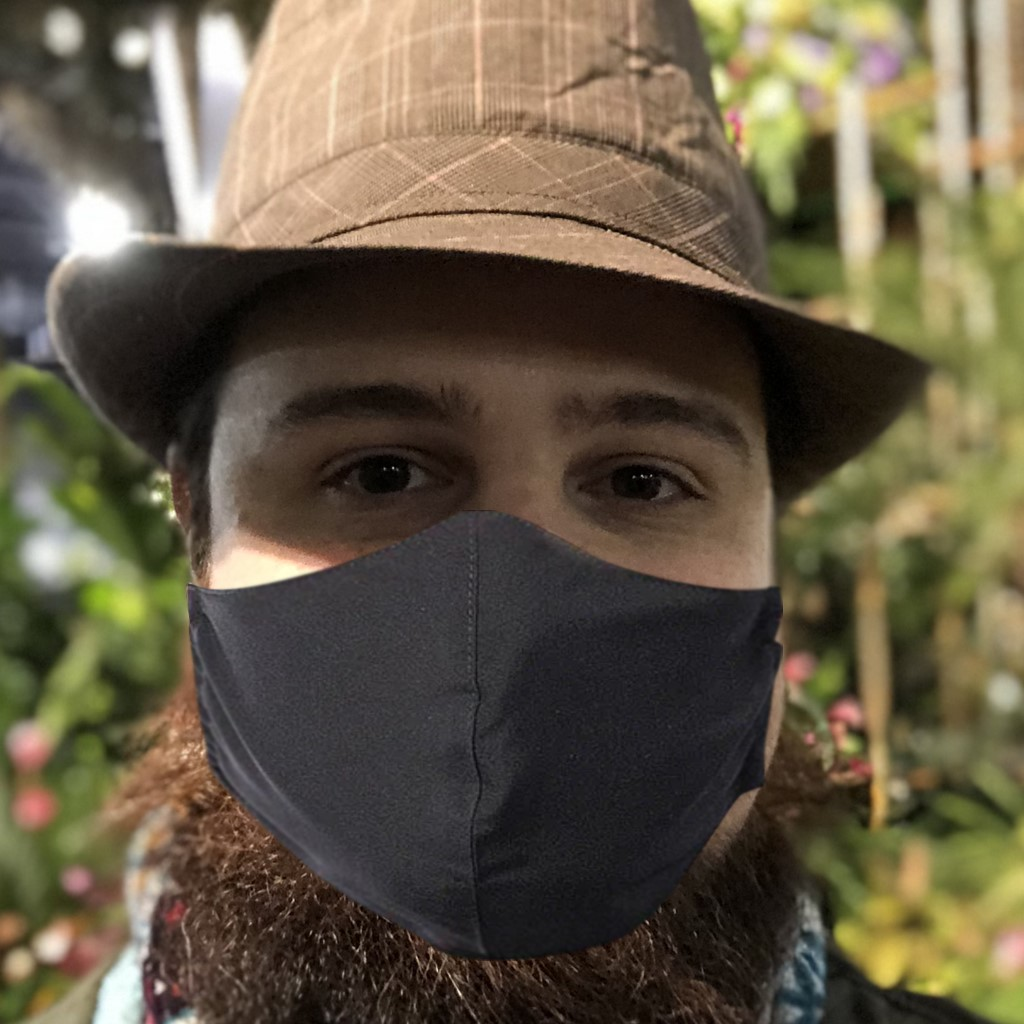con_mascara: (167, 244, 787, 953)
